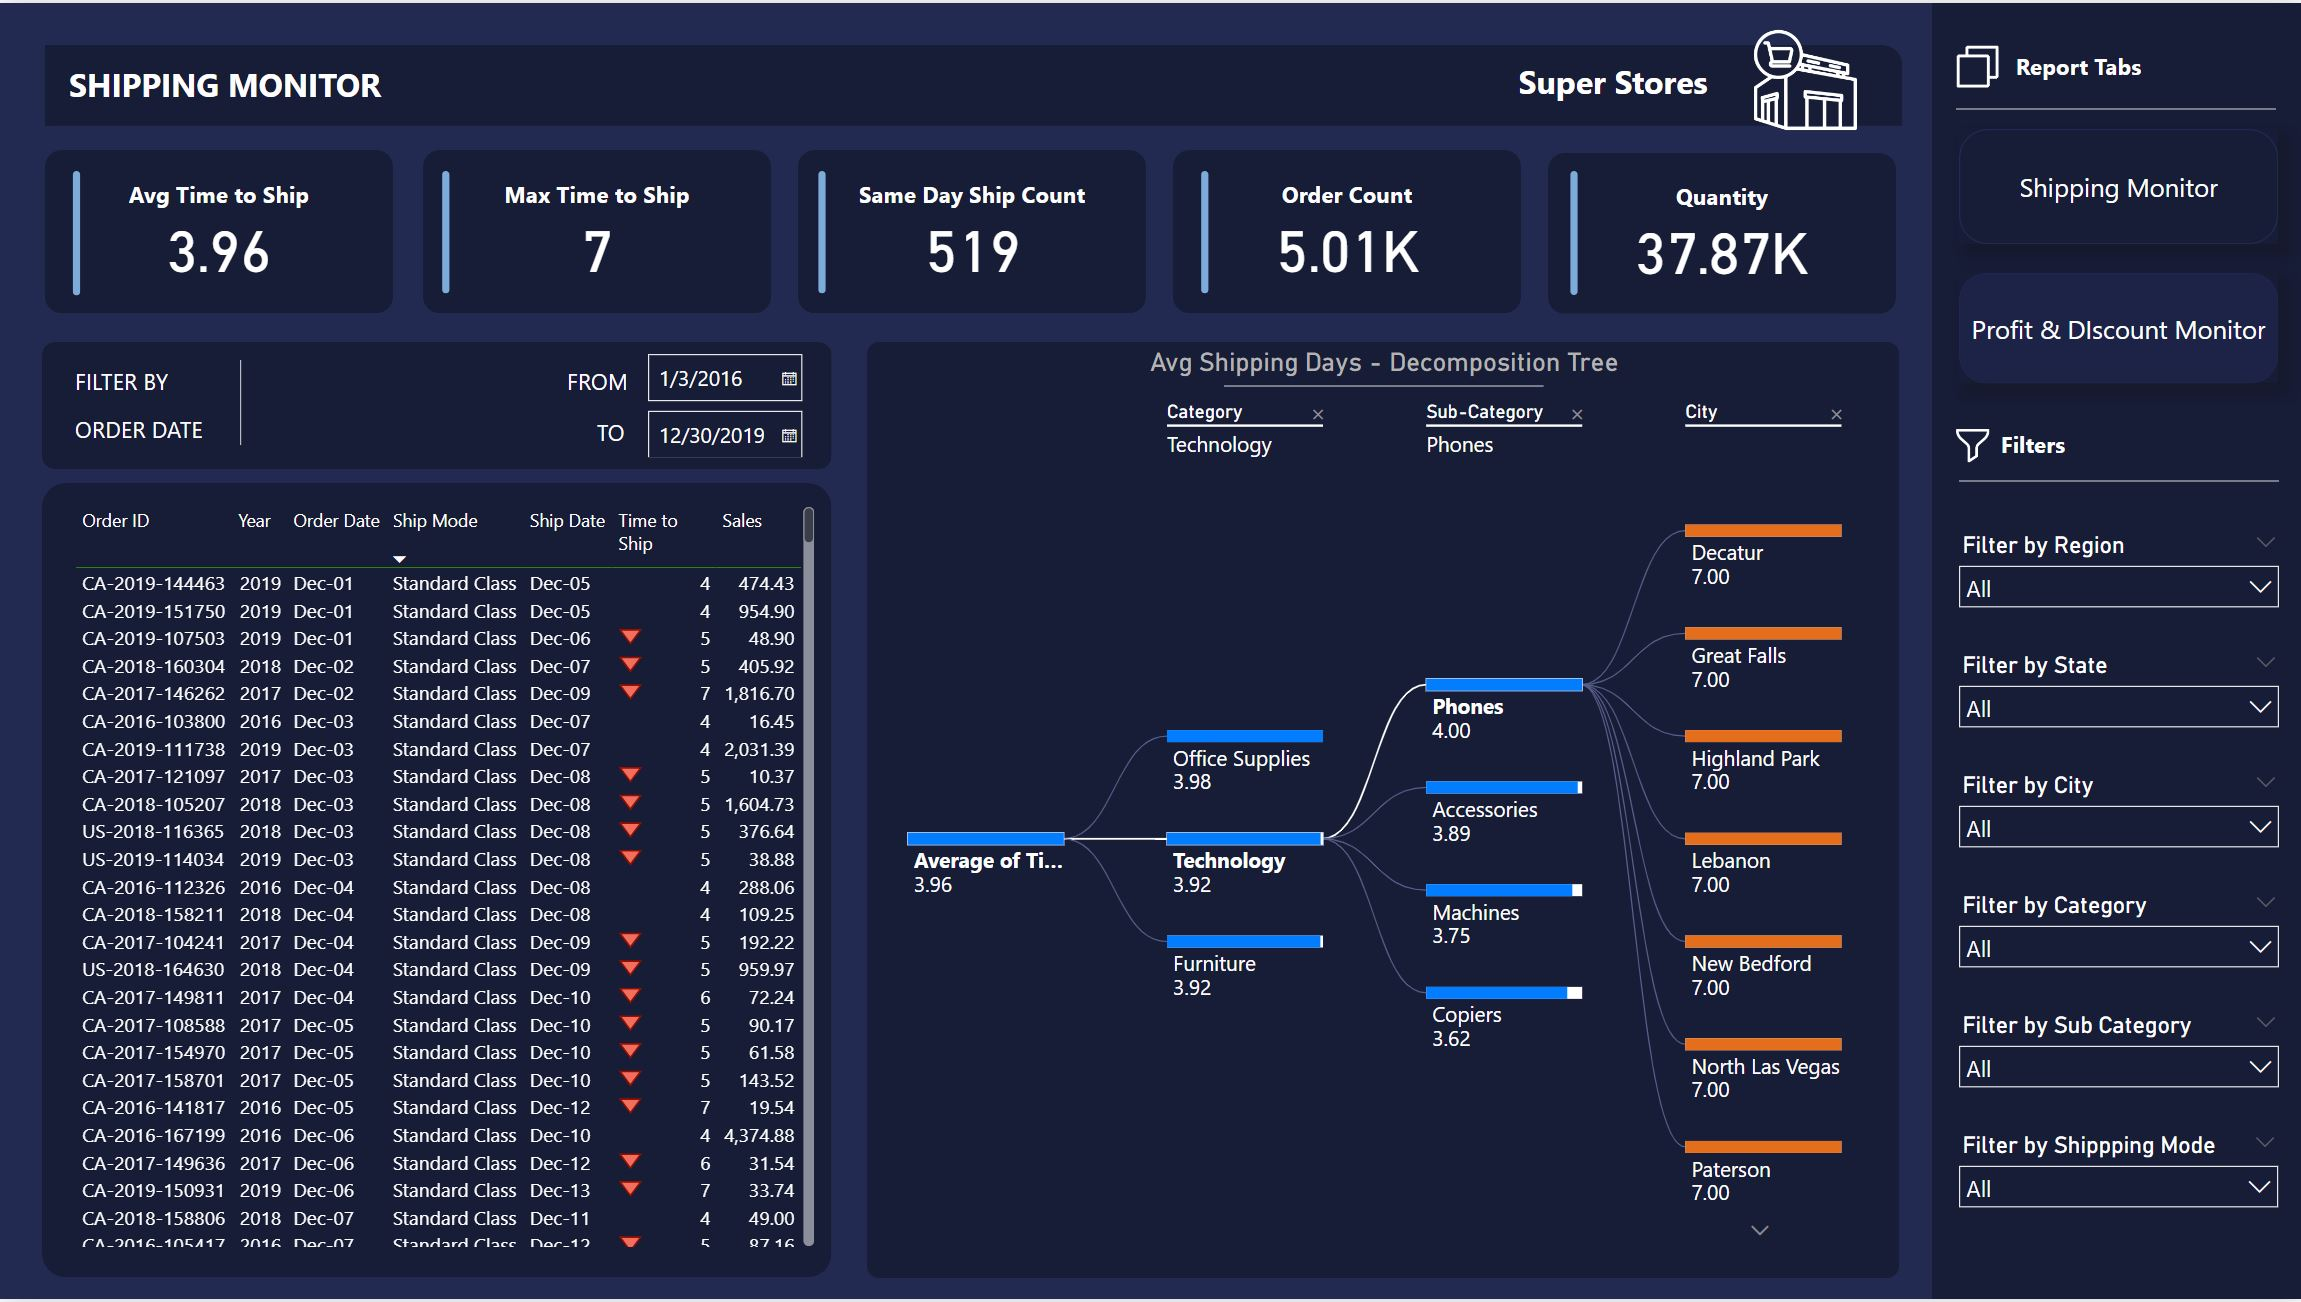

Layout of this report page (visuals, bound fields, positions):
{"tool":"powerbi","page":{"name":"Shipping Monitor","canvas":[1920,1080],"ordinal":1},"visuals":[{"type":"shape","box":[38.3,35.3,1547.9,67.5],"z":0,"group":"g1"},{"type":"slicer","fields":{"Values":["Orders.Order Date"]},"box":[526,282,154,96],"z":0,"group":"g3"},{"type":"decompositionTreeVisual","title":"Avg Shipping Days - Decomposition Tree","fields":{"Analyze":["Avg(Orders.Time to Ship)"],"ExplainBy":["Orders.Category","Orders.Sub-Category","Orders.City"]},"box":[722,282,860,780],"z":0},{"type":"slicer","fields":{"Values":["Orders.City"]},"box":[1622.5,634.6,286.7,90],"z":0,"group":"g2"},{"type":"textbox","box":[54.2,45.4,461.2,56.2],"z":1000,"group":"g1"},{"type":"shape","box":[34,282,658,106],"z":1000},{"type":"textbox","box":[468,296,180,50],"z":1000,"group":"g3"},{"type":"slicer","fields":{"Values":["Orders.State"]},"box":[1622.5,534.8,286.7,90],"z":1000,"group":"g2"},{"type":"shape","box":[1610,0,310,1080],"z":1500,"group":"g4"},{"type":"image","box":[1452.4,14.9,103.6,98.6],"z":2000,"group":"g1"},{"type":"textbox","box":[494,340,180,50],"z":2000,"group":"g3"},{"type":"shape","box":[34,400,658,662],"z":2000},{"type":"slicer","fields":{"Values":["Orders.Ship Mode"]},"box":[1622.8,934,286,88],"z":2000,"group":"g2"},{"type":"image","box":[1622.2,22.2,51.1,61.1],"z":3000,"group":"g4"},{"type":"textbox","box":[1231.2,43.6,198,58],"z":3000,"group":"g1"},{"type":"cardVisual","fields":{"Data":["Key Measures.Max Time to Ship"]},"box":[346.4,118.1,300,146],"z":3000},{"type":"slicer","fields":{"Values":["Orders.Region"]},"box":[1622.5,435,286.7,90],"z":3000,"group":"g2"},{"type":"cardVisual","fields":{"Data":["Count(Orders.Order ID)"]},"box":[972.8,118.1,300,146],"z":4000},{"type":"image","box":[1625.9,350.4,37.5,37.5],"z":4000,"group":"g4"},{"type":"slicer","fields":{"Values":["Orders.Category"]},"box":[1622.5,734.4,286.7,90],"z":4000,"group":"g2"},{"type":"textbox","box":[1674,36,190,40],"z":5000,"group":"g4"},{"type":"cardVisual","fields":{"Data":["Sum(Orders.Quantity)"]},"box":[1286,119.1,300,144],"z":5000},{"type":"slicer","fields":{"Values":["Orders.Sub-Category"]},"box":[1622.5,834.2,286.7,90],"z":5000,"group":"g2"},{"type":"group","id":"g1","title":"Header Pane","box":[38.3,14.9,1547.9,98.6],"z":6000},{"type":"textbox","box":[1663.3,350,103.3,38.3],"z":6000,"group":"g4"},{"type":"shape","box":[1632.2,378.9,266.7,36.7],"z":7000,"group":"g4"},{"type":"tableEx","fields":{"Values":["Orders.Order ID","Orders.Order Date.Variation.Date Hierarchy.Year","Orders.Order Date DD-MMM","Orders.Ship Mode","Orders.Ship Date DD-MMM","Sum(Orders.Days)","Sum(Orders.Sales)"]},"box":[58,414,626,626],"z":7000},{"type":"cardVisual","fields":{"Data":["Avg(Orders.Time to ship)"]},"box":[33.2,118.1,300,146],"z":8000},{"type":"group","id":"g2","title":"Slicers Grouped","box":[1622.5,435,287.5,587.5],"z":8000,"group":"g4"},{"type":"shape","box":[1631.1,68.9,266.7,36.7],"z":9000,"group":"g4"},{"type":"cardVisual","fields":{"Data":["Key Measures.Min Time to Ship"]},"box":[659.6,118.1,300,146],"z":9000},{"type":"shape","title":"Profit Tab Off","box":[1632,224,266,92],"z":10000,"group":"g4"},{"type":"shape","box":[184.4,297.8,31.1,71.1],"z":10000},{"type":"shape","title":"Shipping Tab On","box":[1632,104,266,96],"z":11000,"group":"g4"},{"type":"shape","box":[1021,300.5,266.4,38.4],"z":11000},{"type":"textbox","box":[58,298,180,50],"z":12000},{"type":"textbox","box":[58,338,180,50],"z":13000},{"type":"group","id":"g3","title":"Date Slicer","box":[468,282,212,108],"z":14000},{"type":"shape","box":[45,139.2,37.5,103.8],"z":15000},{"type":"shape","box":[664,140,40,102],"z":16000},{"type":"shape","box":[352,140,38,102],"z":17000},{"type":"shape","box":[986,140,38,102],"z":18000},{"type":"shape","box":[1291.7,139.4,38.3,103.3],"z":19000},{"type":"group","id":"g4","title":"Side Filter Pane","box":[1610,0,310,1080],"z":20000}]}

Visuals, with their boxes on the page's 1920x1080 design canvas (x1, y1, x2, y2). These are canvas units, not pixel positions in the 2301x1302 screenshot, which may show the page scaled, cropped or inside an application window:
shape: {"left": 38, "top": 35, "right": 1586, "bottom": 103}
slicer - Orders.Order Date: {"left": 526, "top": 282, "right": 680, "bottom": 378}
"Avg Shipping Days - Decomposition Tree" decompositionTreeVisual: {"left": 722, "top": 282, "right": 1582, "bottom": 1062}
slicer - Orders.City: {"left": 1622, "top": 635, "right": 1909, "bottom": 725}
textbox: {"left": 54, "top": 45, "right": 515, "bottom": 102}
shape: {"left": 34, "top": 282, "right": 692, "bottom": 388}
textbox: {"left": 468, "top": 296, "right": 648, "bottom": 346}
slicer - Orders.State: {"left": 1622, "top": 535, "right": 1909, "bottom": 625}
shape: {"left": 1610, "top": 0, "right": 1920, "bottom": 1080}
image: {"left": 1452, "top": 15, "right": 1556, "bottom": 114}
textbox: {"left": 494, "top": 340, "right": 674, "bottom": 390}
shape: {"left": 34, "top": 400, "right": 692, "bottom": 1062}
slicer - Orders.Ship Mode: {"left": 1623, "top": 934, "right": 1909, "bottom": 1022}
image: {"left": 1622, "top": 22, "right": 1673, "bottom": 83}
textbox: {"left": 1231, "top": 44, "right": 1429, "bottom": 102}
cardVisual - Key Measures.Max Time to Ship: {"left": 346, "top": 118, "right": 646, "bottom": 264}
slicer - Orders.Region: {"left": 1622, "top": 435, "right": 1909, "bottom": 525}
cardVisual - Count(Orders.Order ID): {"left": 973, "top": 118, "right": 1273, "bottom": 264}
image: {"left": 1626, "top": 350, "right": 1663, "bottom": 388}
slicer - Orders.Category: {"left": 1622, "top": 734, "right": 1909, "bottom": 824}
textbox: {"left": 1674, "top": 36, "right": 1864, "bottom": 76}
cardVisual - Sum(Orders.Quantity): {"left": 1286, "top": 119, "right": 1586, "bottom": 263}
slicer - Orders.Sub-Category: {"left": 1622, "top": 834, "right": 1909, "bottom": 924}
"Header Pane" group: {"left": 38, "top": 15, "right": 1586, "bottom": 114}
textbox: {"left": 1663, "top": 350, "right": 1767, "bottom": 388}
shape: {"left": 1632, "top": 379, "right": 1899, "bottom": 416}
tableEx - Orders.Order ID x Orders.Order Date.Variation.Date Hierarchy.Year: {"left": 58, "top": 414, "right": 684, "bottom": 1040}
cardVisual - Avg(Orders.Time to ship): {"left": 33, "top": 118, "right": 333, "bottom": 264}
"Slicers Grouped" group: {"left": 1622, "top": 435, "right": 1910, "bottom": 1022}
shape: {"left": 1631, "top": 69, "right": 1898, "bottom": 106}
cardVisual - Key Measures.Min Time to Ship: {"left": 660, "top": 118, "right": 960, "bottom": 264}
"Profit Tab Off" shape: {"left": 1632, "top": 224, "right": 1898, "bottom": 316}
shape: {"left": 184, "top": 298, "right": 216, "bottom": 369}
"Shipping Tab On" shape: {"left": 1632, "top": 104, "right": 1898, "bottom": 200}
shape: {"left": 1021, "top": 300, "right": 1287, "bottom": 339}
textbox: {"left": 58, "top": 298, "right": 238, "bottom": 348}
textbox: {"left": 58, "top": 338, "right": 238, "bottom": 388}
"Date Slicer" group: {"left": 468, "top": 282, "right": 680, "bottom": 390}
shape: {"left": 45, "top": 139, "right": 82, "bottom": 243}
shape: {"left": 664, "top": 140, "right": 704, "bottom": 242}
shape: {"left": 352, "top": 140, "right": 390, "bottom": 242}
shape: {"left": 986, "top": 140, "right": 1024, "bottom": 242}
shape: {"left": 1292, "top": 139, "right": 1330, "bottom": 243}
"Side Filter Pane" group: {"left": 1610, "top": 0, "right": 1920, "bottom": 1080}
